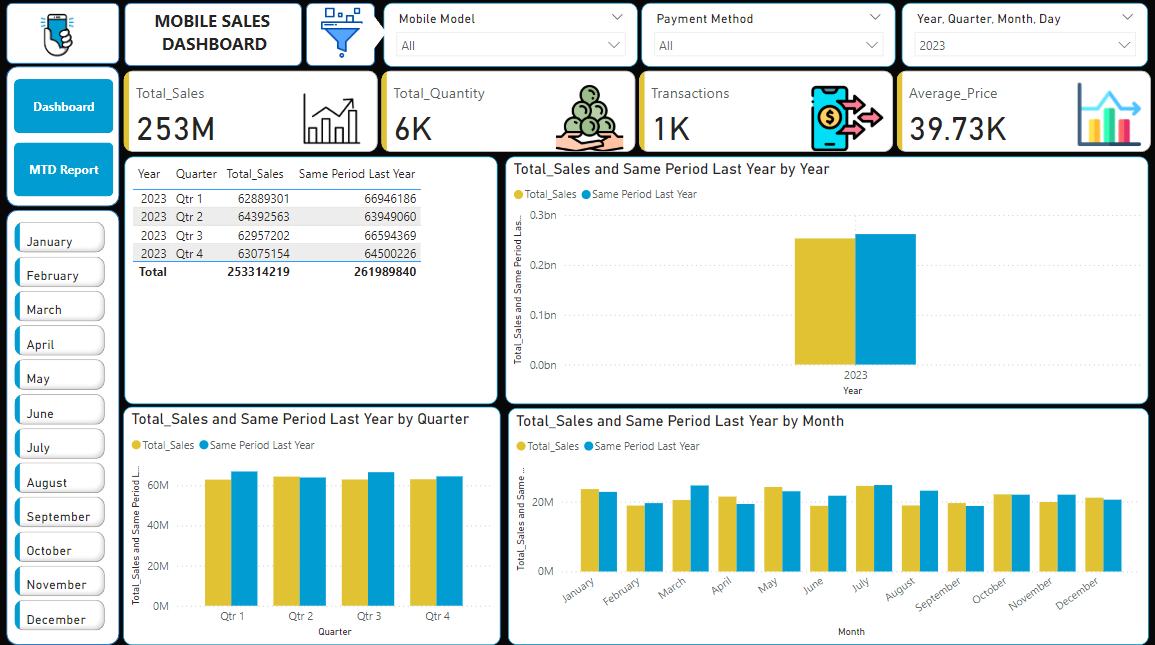

The dashboard page shown, as its layout file describes it:
{"tool":"powerbi","page":{"name":"Same Period Last Year","canvas":[1280,720],"ordinal":2},"visuals":[{"type":"shape","box":[7.5,3.8,125,67.5],"z":0},{"type":"image","box":[23.8,3.8,78.8,71.2],"z":1000},{"type":"shape","box":[7.5,73.8,125,155],"z":2000},{"type":"cardVisual","fields":{"Data":["Sales_Data.Total_Sales","Sales_Data.Total_Quantity","Sales_Data.Transactions","Sales_Data.Average_Price"]},"box":[132.5,73.8,1147.5,100],"z":3000},{"type":"slicer","fields":{"Values":["Sales_Data.Mobile Model"]},"box":[423.8,3.8,281.2,71.2],"z":4000},{"type":"slicer","fields":{"Values":["Sales_Data.Payment Method"]},"box":[710,3.8,281.2,71.2],"z":5000},{"type":"slicer","fields":{"Values":["Custom_Calendar.Date.Variation.Date Hierarchy.Year","Custom_Calendar.Date.Variation.Date Hierarchy.Quarter","Custom_Calendar.Date.Variation.Date Hierarchy.Month","Custom_Calendar.Date.Variation.Date Hierarchy.Day"]},"box":[997.5,3.8,272.5,71.2],"z":6000},{"type":"shape","box":[338.8,3.8,76.2,70],"z":7000},{"type":"image","box":[337.5,3.8,81.2,66.2],"z":8000},{"type":"shape","box":[397.5,17.5,30,40],"z":9000},{"type":"shape","box":[137.5,3.8,196.2,70],"z":10000},{"type":"textbox","box":[156.2,6.2,162.5,63.8],"z":11000},{"type":"shape","box":[7.5,232.5,125,481.2],"z":12000},{"type":"advancedSlicerVisual","fields":{"Values":["Custom_Calendar.Date.Variation.Date Hierarchy.Month"]},"box":[11.2,241.2,110,472.5],"z":13000},{"type":"tableEx","fields":{"Values":["Custom_Calendar.Date.Variation.Date Hierarchy.Year","Custom_Calendar.Date.Variation.Date Hierarchy.Quarter","Sales_Data.Total_Sales","Sales_Data.Same Period Last Year"]},"box":[137.5,173.8,412.5,273.8],"z":14000},{"type":"clusteredColumnChart","fields":{"Category":["Custom_Calendar.Date.Variation.Date Hierarchy.Year","Custom_Calendar.Date.Variation.Date Hierarchy.Quarter"],"Y":["Sales_Data.Total_Sales","Sales_Data.Same Period Last Year"]},"box":[558.8,173.8,711.2,273.8],"z":15000},{"type":"clusteredColumnChart","fields":{"Y":["Sales_Data.Total_Sales","Sales_Data.Same Period Last Year"],"Category":["Custom_Calendar.Date.Variation.Date Hierarchy.Year","Custom_Calendar.Date.Variation.Date Hierarchy.Quarter","Custom_Calendar.Date.Variation.Date Hierarchy.Month","Custom_Calendar.Date.Variation.Date Hierarchy.Day"]},"box":[561.2,452.5,708.8,262.5],"z":16000},{"type":"clusteredColumnChart","fields":{"Category":["Custom_Calendar.Date.Variation.Date Hierarchy.Year","Custom_Calendar.Date.Variation.Date Hierarchy.Quarter"],"Y":["Sales_Data.Total_Sales","Sales_Data.Same Period Last Year"]},"box":[136.2,451.2,417.5,263.8],"z":17000},{"type":"pageNavigator","box":[15,88.8,110,130],"z":18000}]}

Visuals, with their boxes in screenshot pixels (x1, y1, x2, y2), scaled from the page's 1280x720 canvas onto the 1155x645 screenshot:
shape: box=[7, 3, 120, 64]
image: box=[21, 3, 93, 67]
shape: box=[7, 66, 120, 205]
cardVisual - Sales_Data.Total_Sales x Sales_Data.Total_Quantity: box=[120, 66, 1154, 156]
slicer - Sales_Data.Mobile Model: box=[382, 3, 636, 67]
slicer - Sales_Data.Payment Method: box=[641, 3, 894, 67]
slicer - Custom_Calendar.Date.Variation.Date Hierarchy.Year x Custom_Calendar.Date.Variation.Date Hierarchy.Quarter: box=[900, 3, 1146, 67]
shape: box=[306, 3, 374, 66]
image: box=[305, 3, 378, 63]
shape: box=[359, 16, 386, 52]
shape: box=[124, 3, 301, 66]
textbox: box=[141, 6, 288, 63]
shape: box=[7, 208, 120, 639]
advancedSlicerVisual - Custom_Calendar.Date.Variation.Date Hierarchy.Month: box=[10, 216, 109, 639]
tableEx - Custom_Calendar.Date.Variation.Date Hierarchy.Year x Custom_Calendar.Date.Variation.Date Hierarchy.Quarter: box=[124, 156, 496, 401]
clusteredColumnChart - Custom_Calendar.Date.Variation.Date Hierarchy.Year x Custom_Calendar.Date.Variation.Date Hierarchy.Quarter: box=[504, 156, 1146, 401]
clusteredColumnChart - Sales_Data.Total_Sales x Sales_Data.Same Period Last Year: box=[506, 405, 1146, 641]
clusteredColumnChart - Custom_Calendar.Date.Variation.Date Hierarchy.Year x Custom_Calendar.Date.Variation.Date Hierarchy.Quarter: box=[123, 404, 500, 641]
pageNavigator: box=[14, 80, 113, 196]
